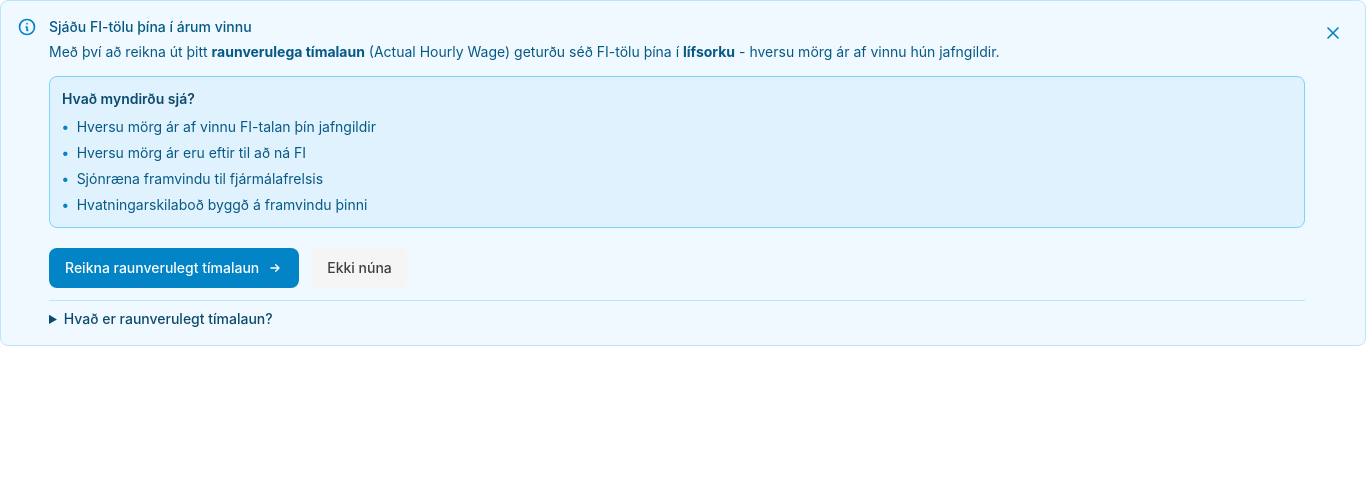
Test case: AWHPrompt › Expandable Details › should show additional information when details are expanded
Expected: the text "Your Money or Your Life" is not shown
# Click to expand
Click the heading "Hvað er raunverulegt tímalaun?" at (168, 318), box 64,310 -> 273,327
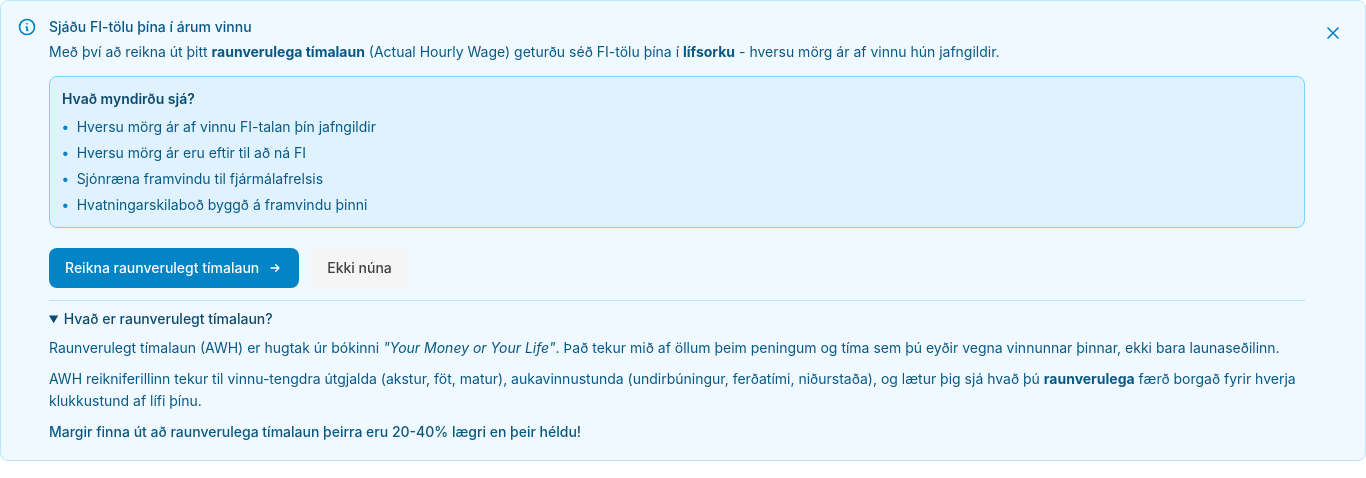
Expected: the text "\"Your Money or Your Life\"" is shown, 383,339 -> 555,356
Expected: the text "vinnu-tengdra útgjalda" is shown, 49,370 -> 1044,386
Expected: the text "20-40% lægri en þeir héldu" is shown, 49,423 -> 581,440
